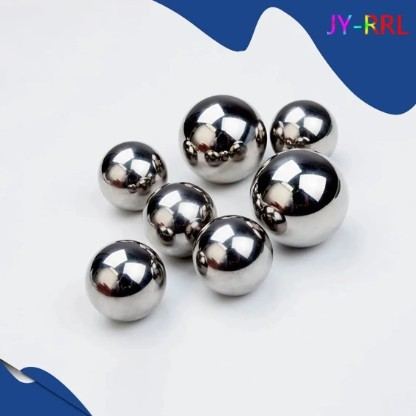ironball: (249, 147, 348, 247), (178, 93, 267, 184), (84, 238, 166, 322), (191, 214, 273, 296), (141, 181, 217, 258), (97, 140, 167, 211), (269, 99, 338, 157)
